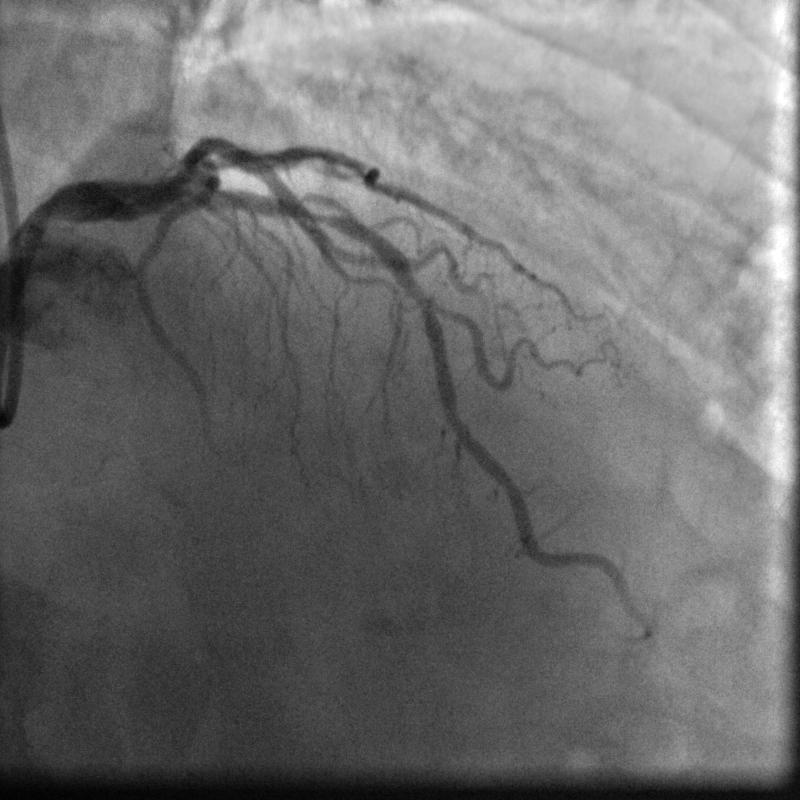Stenosis: (292, 200, 339, 226)
